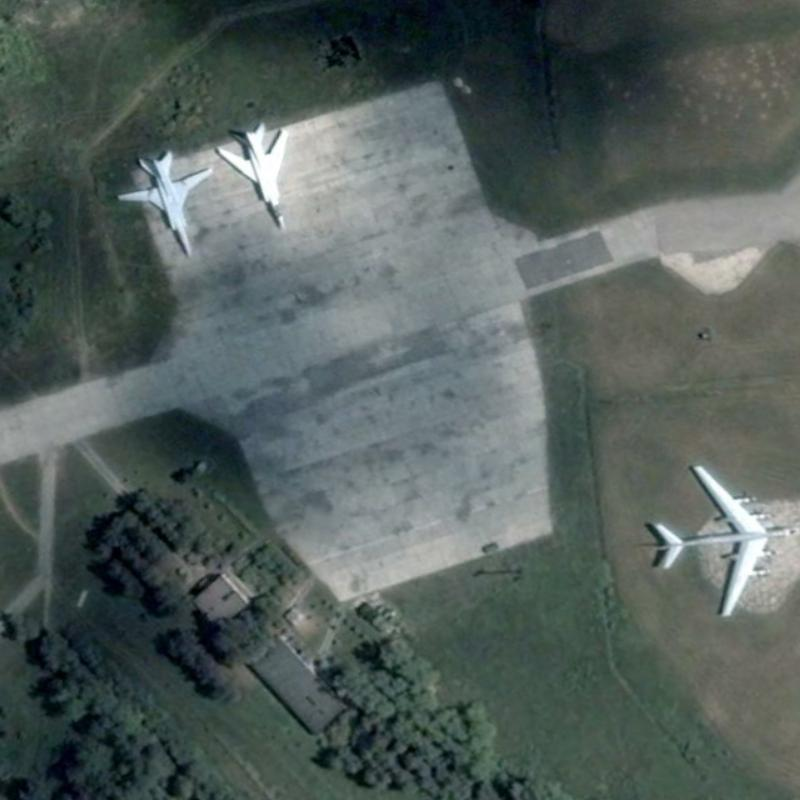A12: (114, 147, 214, 258), (214, 119, 290, 232)
A17: (651, 462, 799, 619)
